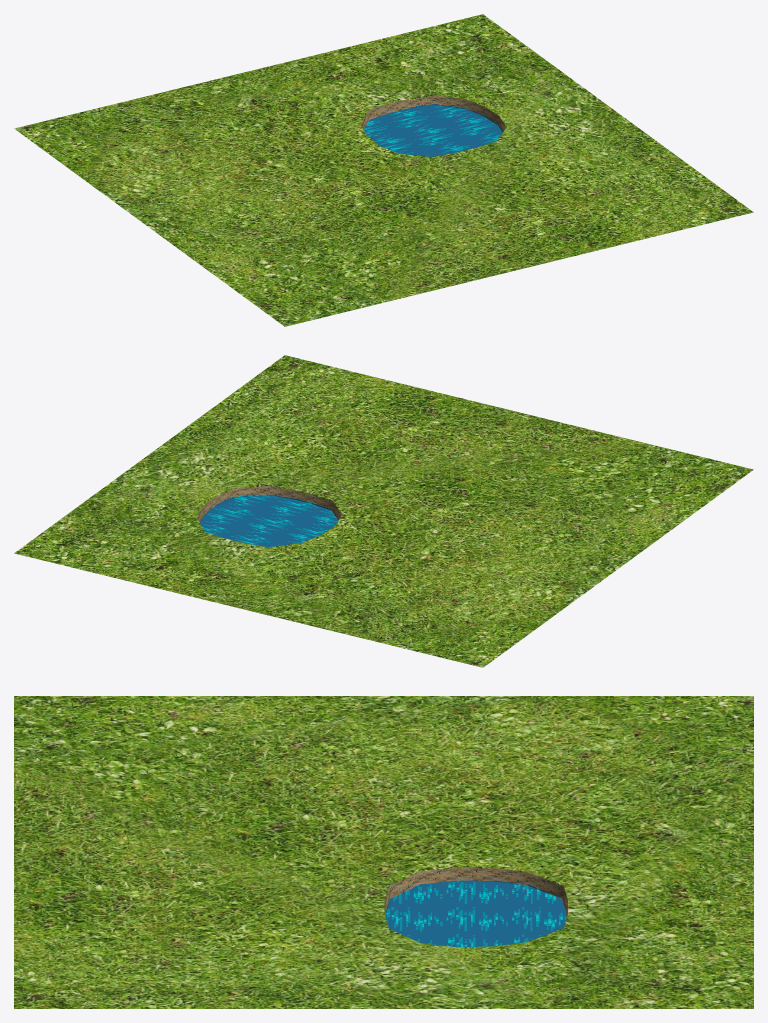
The model's file is terrain2.obj.
3 renders of one model, top to bottom at view 1: azimuth 30°, elevation 25°; view 2: azimuth 150°, elevation 25°; view 3: azimuth 270°, elevation 25°, orthographic. The views are drawn at different scales.
Parts seen in each view (by area): view 1: mesh01; view 2: mesh01; view 3: mesh01.
Boxes of the visible parts, x1,y1,x2,y2 form: mesh01: (14,14,753,326); mesh01: (14,355,753,667); mesh01: (14,696,753,1008).
Size of the model in its own units: 8021 by 151 by 8021.
1 material, 1 textured.
